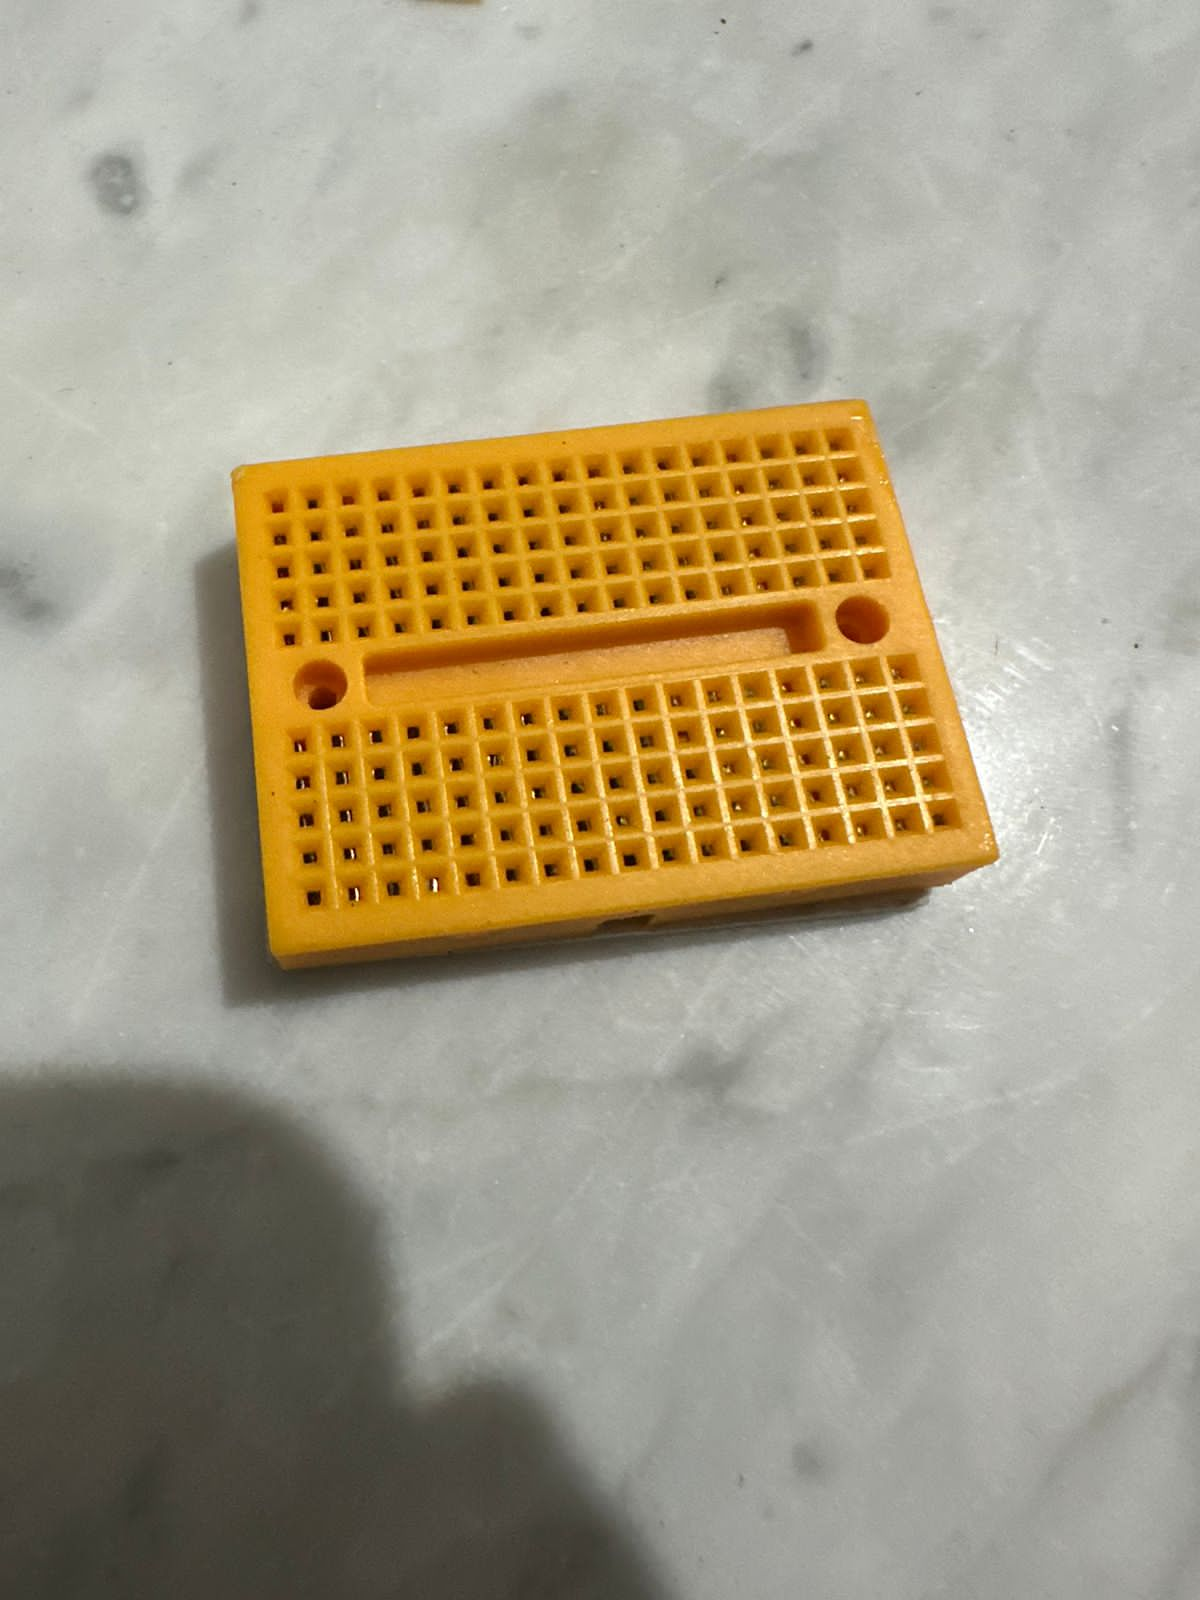breadboard: (218, 401, 1002, 979)
